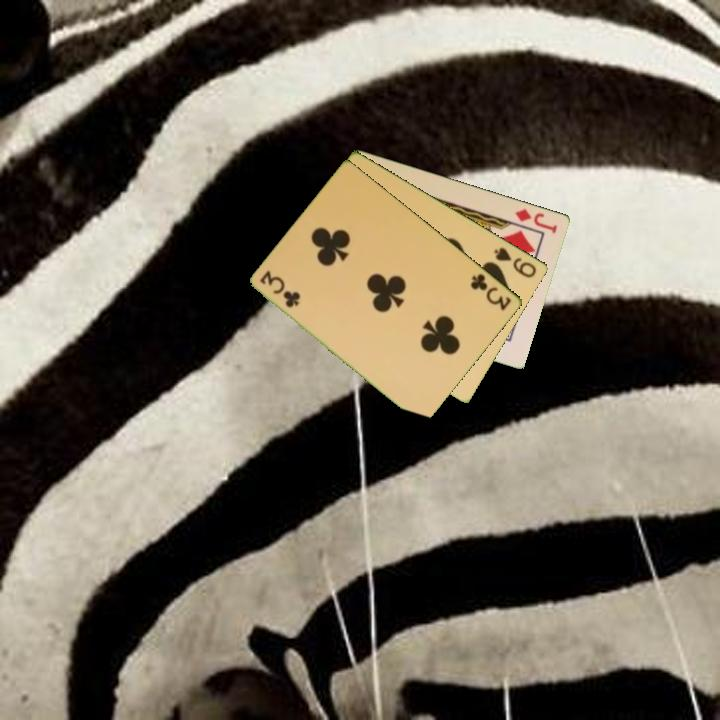3c: (467, 270, 515, 314), (256, 268, 303, 311)
9s: (491, 243, 540, 281)
Jd: (512, 205, 561, 236)
